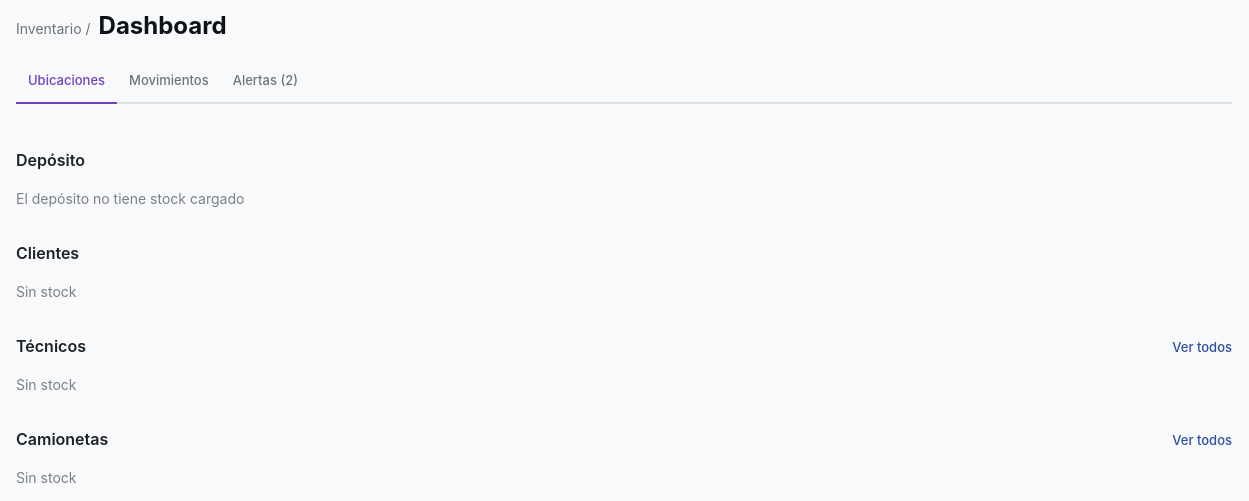
SCEN-FE-3: Alertas tab badge with count › switching to Alertas tab shows deficit table
Click the tab "Alertas (2)" at (265, 82), box left=221, top=60, right=310, bottom=104
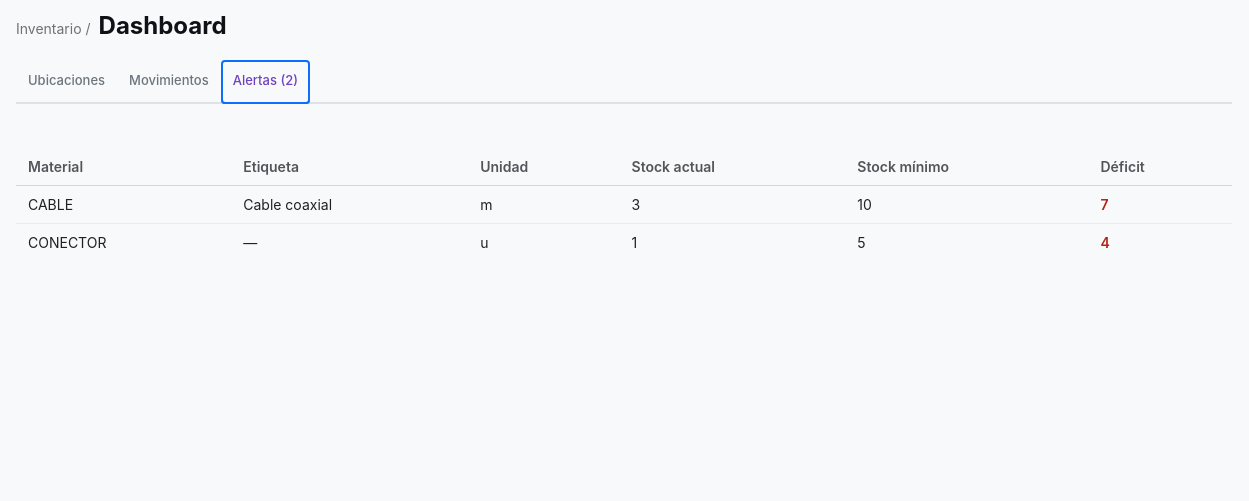
Check: the text "CABLE" is shown, box left=16, top=186, right=231, bottom=224
Check: the text "CONECTOR" is shown, box left=16, top=224, right=231, bottom=261
Check: the text "7" is shown, box left=1088, top=186, right=1232, bottom=224
